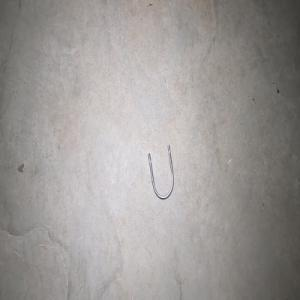ClampPart: (147, 144, 174, 200)
